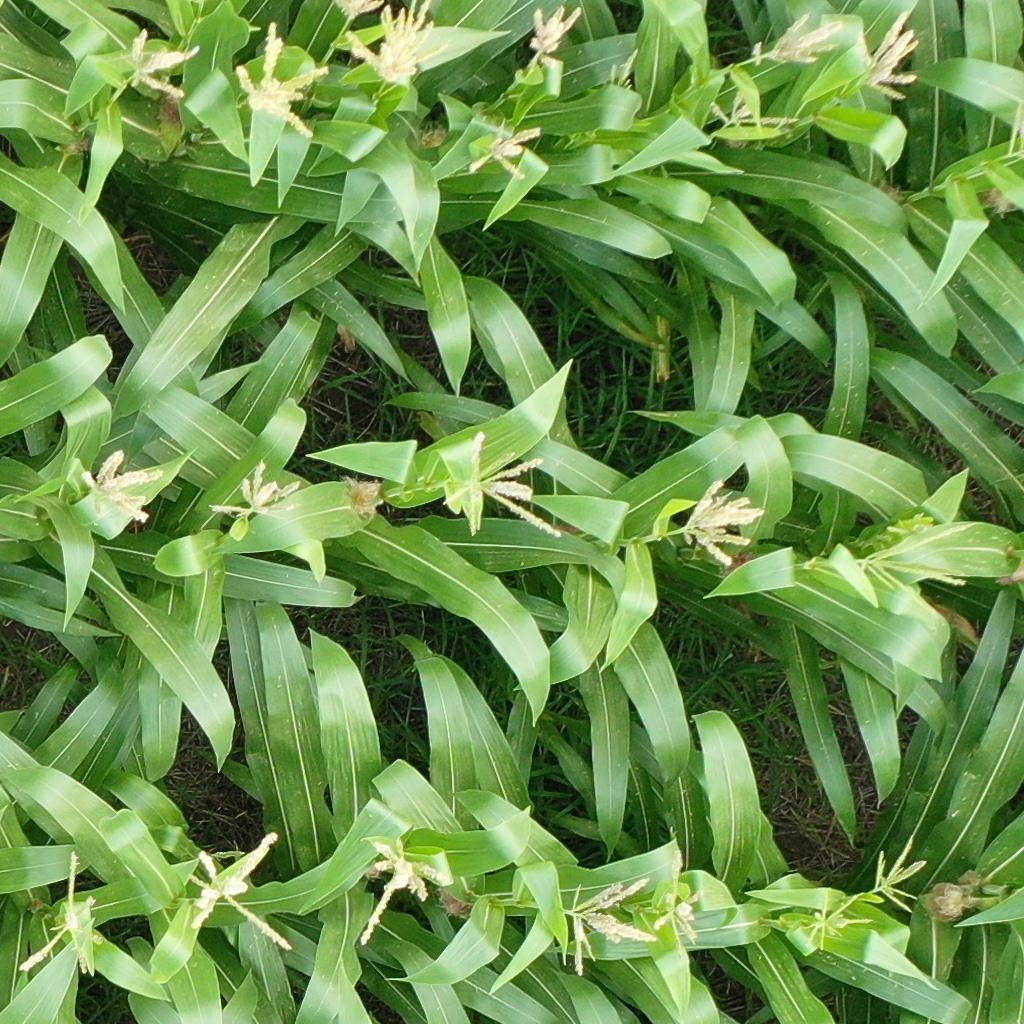Tassel: (189, 832, 299, 955), (442, 432, 565, 542), (236, 22, 331, 142), (18, 852, 103, 979), (855, 523, 979, 609), (356, 839, 448, 947), (565, 876, 655, 979), (345, 1, 447, 85), (680, 479, 764, 567), (81, 450, 165, 528), (861, 3, 921, 106), (207, 463, 303, 525), (126, 27, 200, 100), (468, 121, 543, 185), (702, 87, 798, 135), (653, 854, 702, 946), (803, 887, 873, 951), (766, 13, 845, 69), (873, 837, 927, 914), (525, 5, 582, 68), (884, 506, 933, 540), (609, 49, 639, 92), (1005, 102, 1024, 165), (335, 1, 386, 23)
